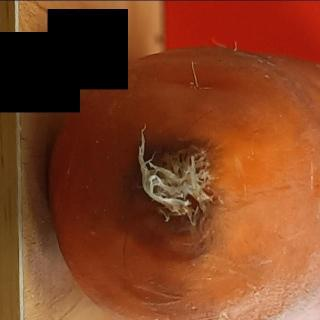carrot: (43, 43, 320, 320)
